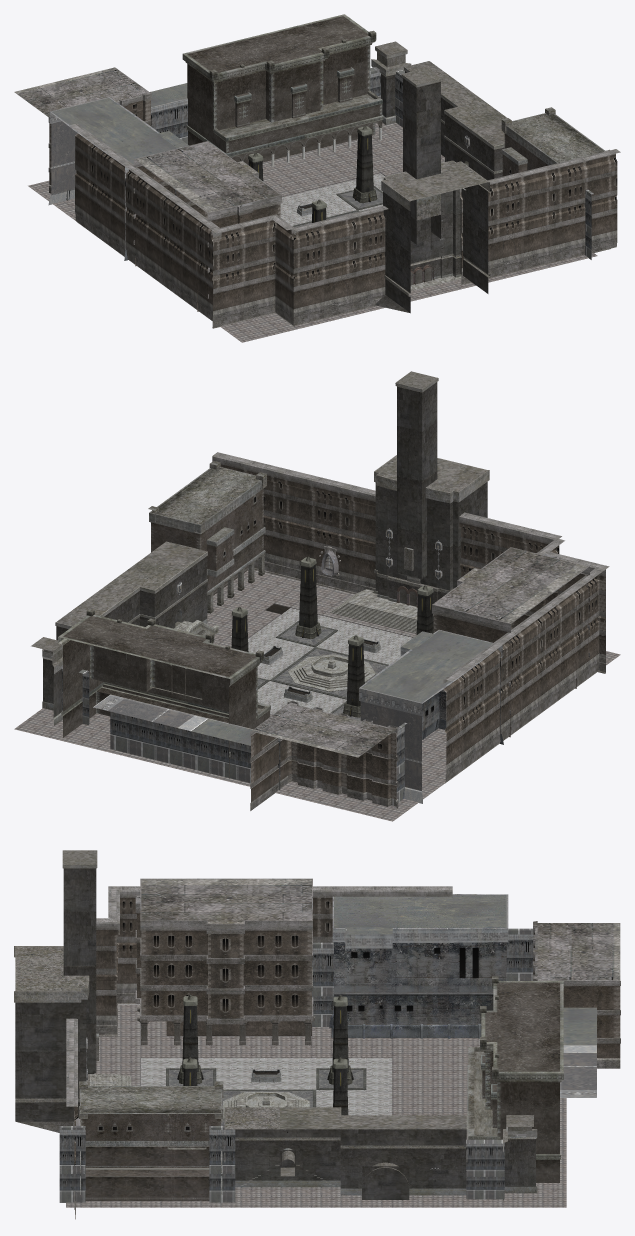
File: Courtyard.fbx
3 views of the same model, one above another, from view 1: azimuth 30°, elevation 25°; view 2: azimuth 150°, elevation 25°; view 3: azimuth 270°, elevation 25° (orthographic). The views are drawn at different scales.
Visible parts, largest first — view 1: Southern Wall, Northern Building 2, Southern Building, Western Wall, Ground, Western Building 2, Western Building 1, Eastern Building 2, Eastern Building 3, Northern Building 1, North Wall, Eastern Building 1 (+2 smaller); view 2: Ground, Northern Building 2, Southern Wall, Western Wall, Southern Building, Northern Building 1, Eastern Building 3, Western Building 1, Western Building 2, North Wall, Eastern Building 2, Sourthern Stairs (+7 smaller); view 3: Ground, Western Building 2, Western Building 1, Eastern Building 2, Southern Building, Eastern Building 3, Northern Building 2, Northern Building 1, Western Wall, Southern Wall, North Wall, Eastern Building 1 (+9 smaller).
Part boxes in pixels (left/top/right/bottom): Southern Wall: left=211, top=149, right=620, bottom=328; Northern Building 2: left=182, top=14, right=383, bottom=164; Southern Building: left=374, top=68, right=490, bottom=313; Western Wall: left=69, top=123, right=219, bottom=320; Ground: left=28, top=122, right=597, bottom=342; Western Building 2: left=133, top=141, right=281, bottom=311; Western Building 1: left=48, top=97, right=188, bottom=260; Eastern Building 2: left=404, top=61, right=506, bottom=180; Eastern Building 3: left=501, top=107, right=610, bottom=252; Northern Building 1: left=14, top=67, right=151, bottom=193; North Wall: left=150, top=83, right=187, bottom=144; Eastern Building 1: left=371, top=41, right=411, bottom=124; Ground: left=14, top=568, right=620, bottom=821; Northern Building 2: left=58, top=609, right=270, bottom=778; Southern Wall: left=212, top=452, right=609, bottom=673; Western Wall: left=443, top=567, right=605, bottom=783; Southern Building: left=372, top=371, right=489, bottom=603; Northern Building 1: left=250, top=701, right=398, bottom=810; Eastern Building 3: left=148, top=461, right=266, bottom=595; Western Building 1: left=359, top=629, right=503, bottom=803; Western Building 2: left=432, top=547, right=589, bottom=737; North Wall: left=93, top=694, right=280, bottom=790; Eastern Building 2: left=55, top=541, right=207, bottom=640; Sourthern Stairs: left=330, top=589, right=433, bottom=633; Ground: left=66, top=1005, right=566, bottom=1207; Western Building 2: left=135, top=878, right=313, bottom=1035; Western Building 1: left=329, top=894, right=508, bottom=1038; Eastern Building 2: left=225, top=1107, right=467, bottom=1199; Southern Building: left=14, top=850, right=98, bottom=1132; Eastern Building 3: left=79, top=1081, right=223, bottom=1200; Northern Building 2: left=467, top=976, right=563, bottom=1182; Northern Building 1: left=533, top=921, right=620, bottom=1068; Western Wall: left=116, top=886, right=452, bottom=1004; Southern Wall: left=66, top=886, right=119, bottom=1219; North Wall: left=560, top=1007, right=596, bottom=1097; Eastern Building 1: left=503, top=1115, right=537, bottom=1200.
Bounding box in the file's own units: 124 × 67.35 × 144.
